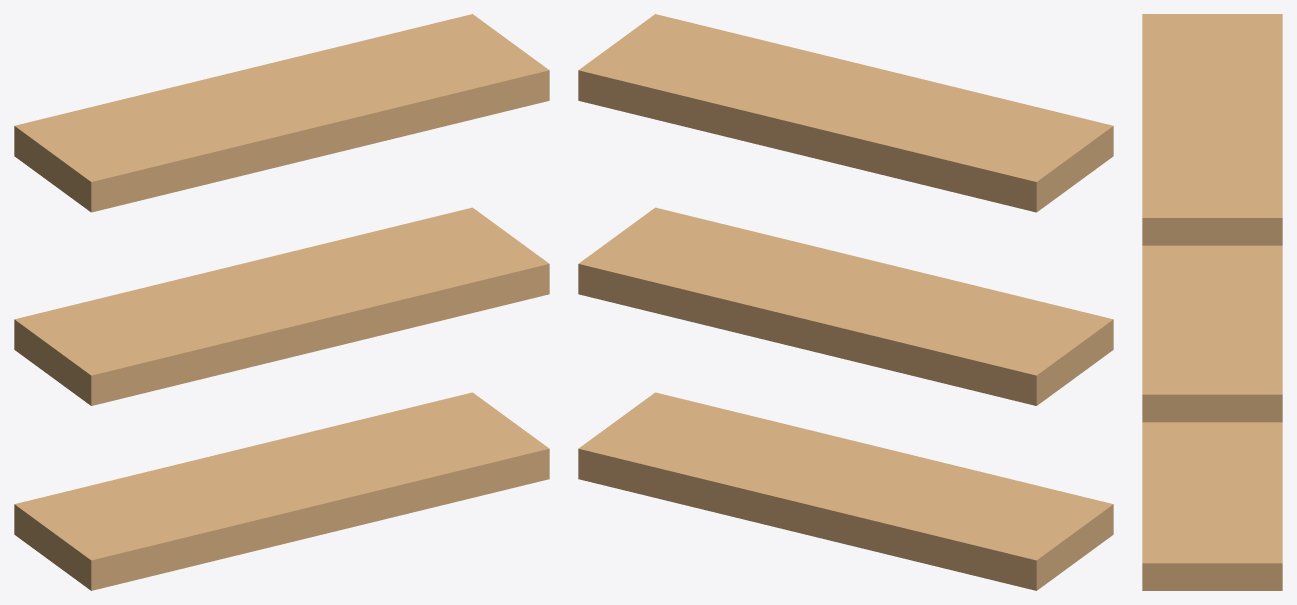
File: Estantería.fbx
The picture shows the model from 3 angles, left to right: view 1: azimuth 30°, elevation 25°; view 2: azimuth 150°, elevation 25°; view 3: azimuth 270°, elevation 25°; orthographic projection. The views are drawn at different scales.
Visible parts, largest first — view 1: Cube.005; view 2: Cube.005; view 3: Cube.005.
Boxes of the visible parts, left/top/right/bottom form: Cube.005: left=14, top=14, right=549, bottom=590; Cube.005: left=578, top=14, right=1113, bottom=590; Cube.005: left=1142, top=14, right=1282, bottom=590.
Size of the model in its own units: 10.52 by 8.97 by 3.06.
